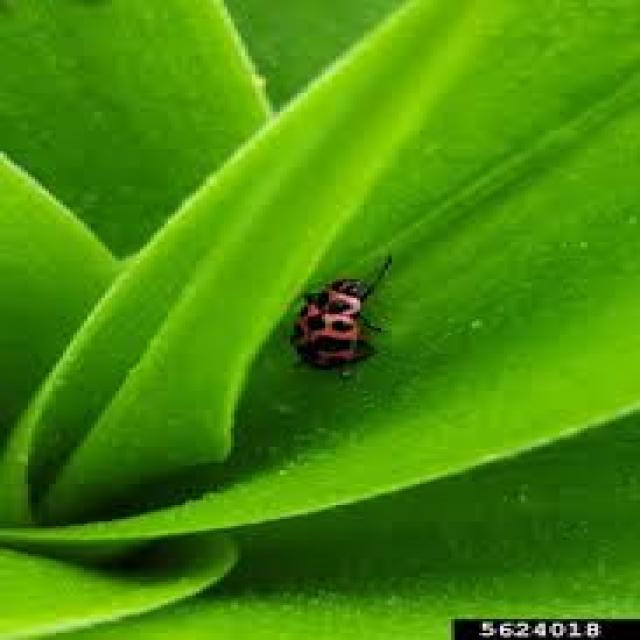bug: (288, 256, 405, 384)
